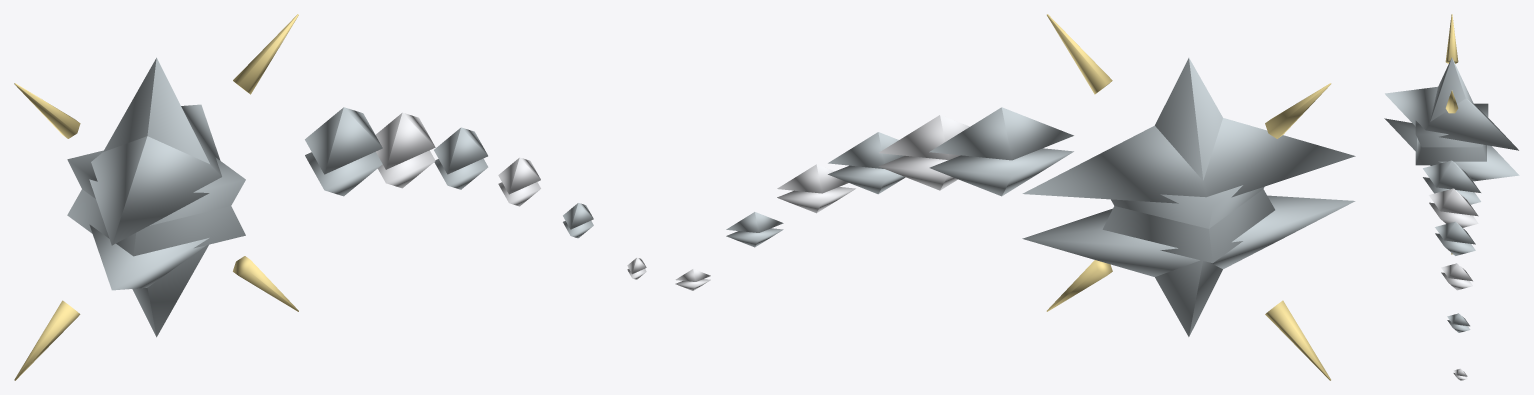
Rendered from meteor.glb.
3 views of the same model, side by side, from view 1: azimuth 30°, elevation 25°; view 2: azimuth 150°, elevation 25°; view 3: azimuth 270°, elevation 25° (orthographic). The views are drawn at different scales.
Parts seen in each view (by area): view 1: CoreH_T, CoreV_T, CoreV_B, CoreH_B, Dust0_T, Dust1_T, Dust0_B, Dust2_T, Spark0, Spark2, Dust1_B, Spark1 (+3 smaller); view 2: CoreH_T, CoreV_T, CoreH_B, CoreV_B, Dust0_T, Dust0_B, Dust1_T, Dust1_B, Dust2_T, Dust2_B, Spark2, Spark0 (+5 smaller); view 3: CoreH_T, CoreV_T, CoreH_B, Dust0_T, CoreV_B, Dust1_T, Dust2_T, Dust1_B, Dust2_B, Spark1, Dust3_T, Dust0_B (+4 smaller).
Part boxes in pixels (left/top/right/bottom): CoreH_T: left=89, top=104, right=221, bottom=245; CoreV_T: left=67, top=57, right=245, bottom=256; CoreV_B: left=67, top=150, right=245, bottom=337; CoreH_B: left=89, top=224, right=208, bottom=290; Dust0_T: left=305, top=107, right=382, bottom=174; Dust1_T: left=375, top=112, right=435, bottom=169; Dust0_B: left=305, top=152, right=382, bottom=196; Dust2_T: left=434, top=127, right=487, bottom=174; Spark0: left=233, top=14, right=298, bottom=94; Spark2: left=14, top=300, right=80, bottom=380; Dust1_B: left=377, top=150, right=435, bottom=188; Spark1: left=14, top=83, right=80, bottom=138; CoreH_T: left=1022, top=118, right=1355, bottom=203; CoreV_T: left=1102, top=58, right=1274, bottom=263; CoreH_B: left=1022, top=195, right=1355, bottom=276; CoreV_B: left=1111, top=185, right=1264, bottom=336; Dust0_T: left=929, top=107, right=1073, bottom=160; Dust0_B: left=929, top=148, right=1073, bottom=196; Dust1_T: left=879, top=115, right=969, bottom=159; Dust1_B: left=878, top=155, right=957, bottom=190; Dust2_T: left=828, top=132, right=904, bottom=168; Dust2_B: left=828, top=165, right=905, bottom=194; Spark2: left=1265, top=300, right=1330, bottom=380; Spark0: left=1047, top=14, right=1112, bottom=94; CoreH_T: left=1385, top=86, right=1518, bottom=150; CoreV_T: left=1415, top=57, right=1486, bottom=165; CoreH_B: left=1384, top=118, right=1519, bottom=181; Dust0_T: left=1423, top=160, right=1480, bottom=192; CoreV_B: left=1415, top=103, right=1488, bottom=165; Dust1_T: left=1429, top=188, right=1478, bottom=216; Dust2_T: left=1435, top=221, right=1475, bottom=244; Dust1_B: left=1429, top=202, right=1478, bottom=227; Dust2_B: left=1435, top=233, right=1475, bottom=255; Spark1: left=1445, top=14, right=1458, bottom=63; Dust3_T: left=1441, top=263, right=1472, bottom=281; Dust0_B: left=1423, top=177, right=1480, bottom=204.
Bounding box in the file's own units: 0.96 × 0.5087 × 0.3168.
